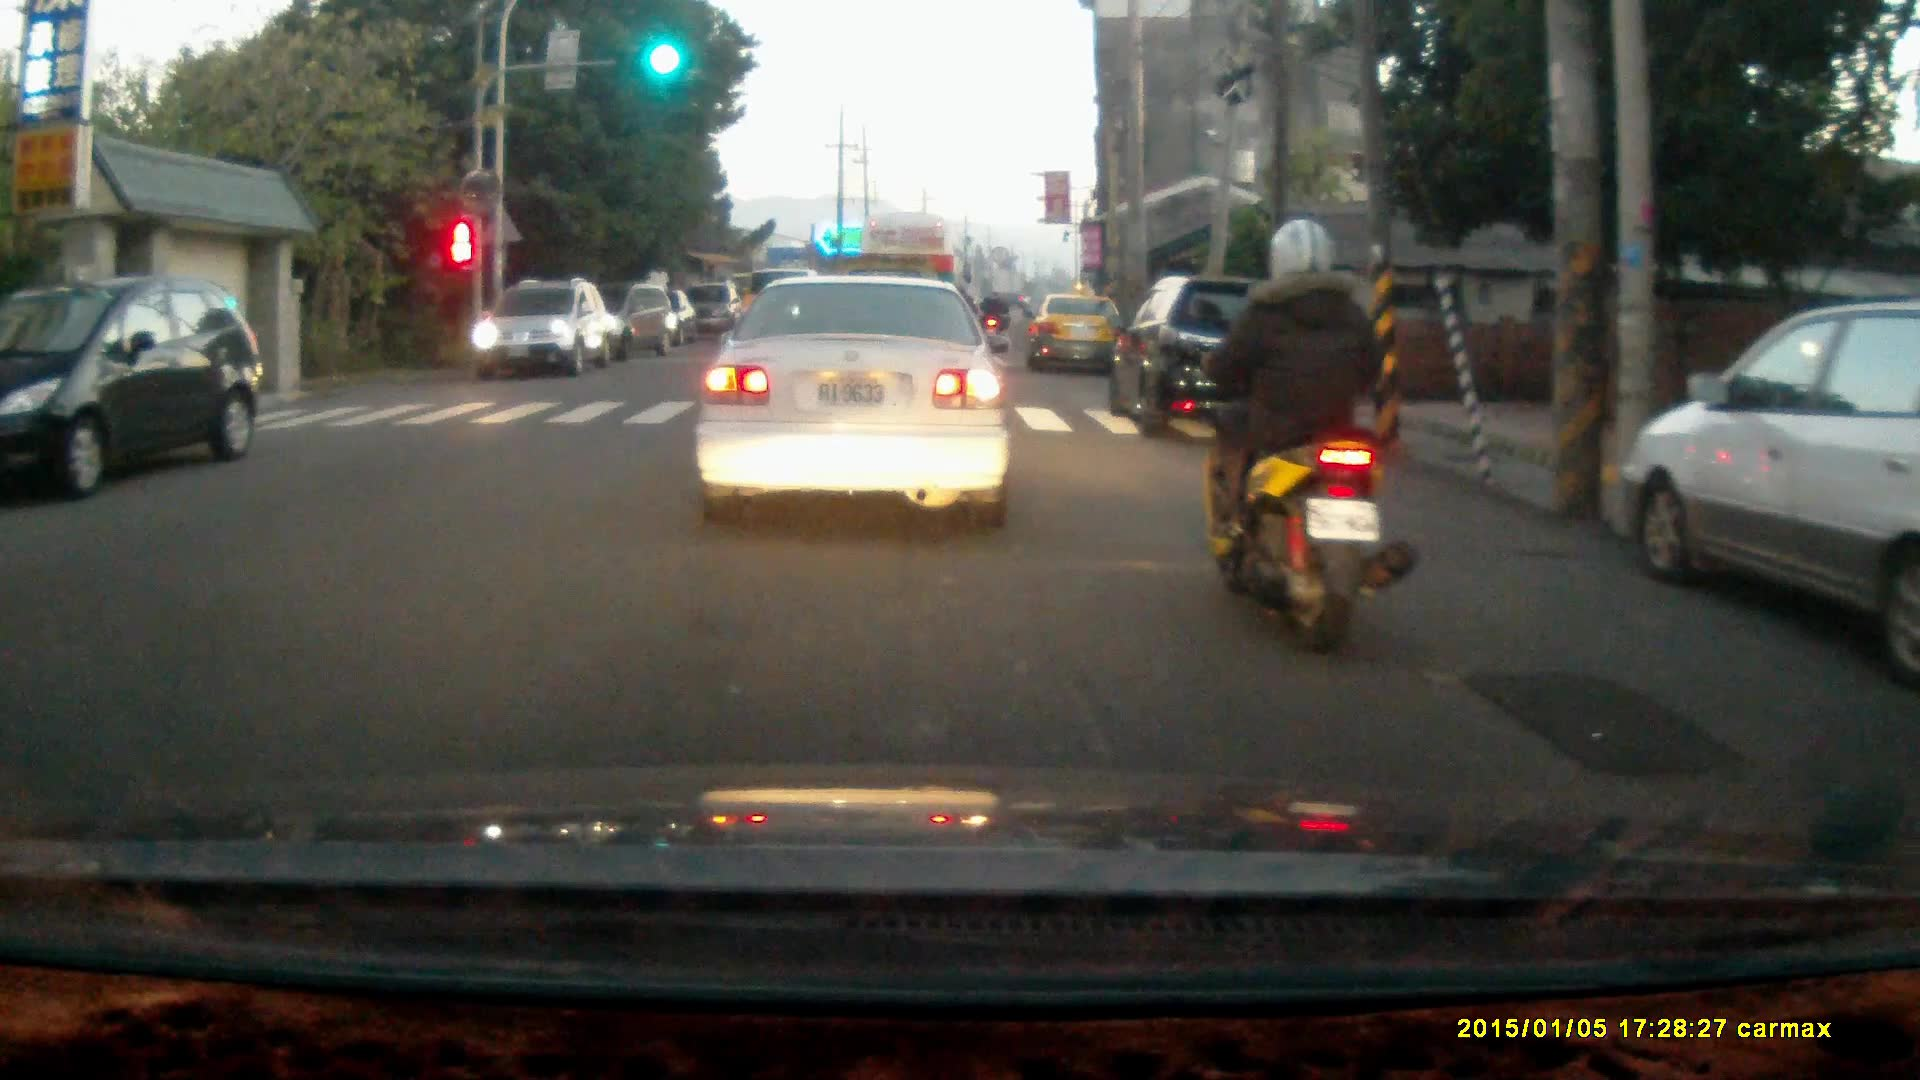rider: (1190, 213, 1414, 659)
vehicle: (1631, 296, 1920, 653), (691, 267, 1015, 531), (1, 277, 260, 510), (1102, 276, 1331, 447), (861, 209, 961, 362), (473, 281, 612, 380), (558, 279, 679, 363), (1027, 291, 1128, 379)
